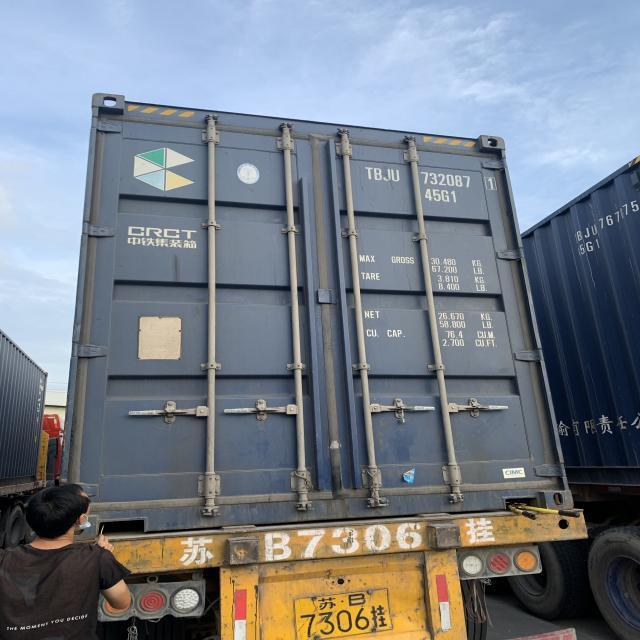ISO: (422, 184, 461, 202)
container_number: (358, 163, 504, 190)
